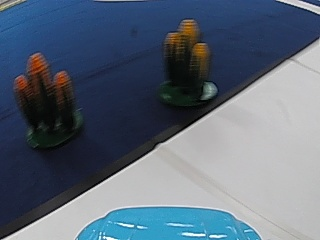corn: (13, 50, 80, 147), (160, 14, 216, 111)
